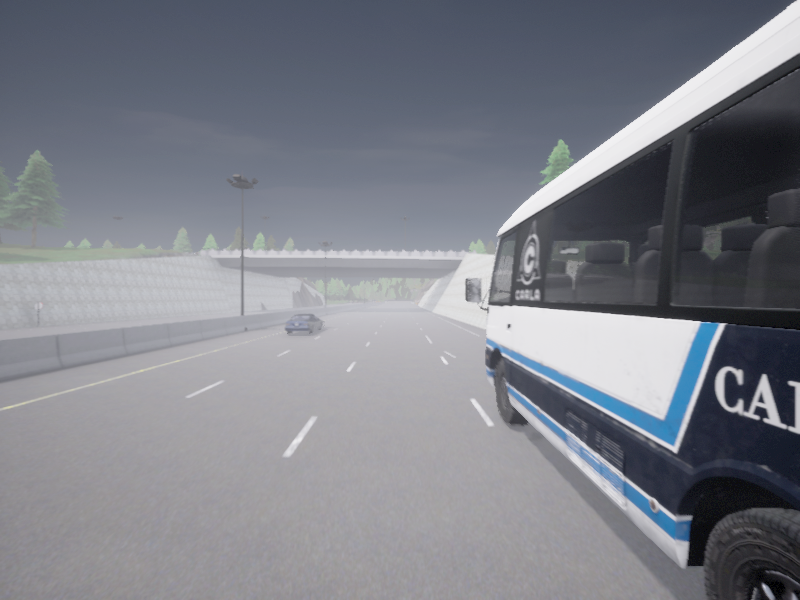vehicle: (466, 0, 799, 599), (284, 314, 323, 333)
